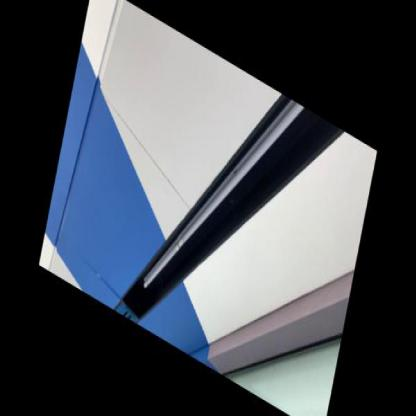light_off: (136, 36, 314, 365)
